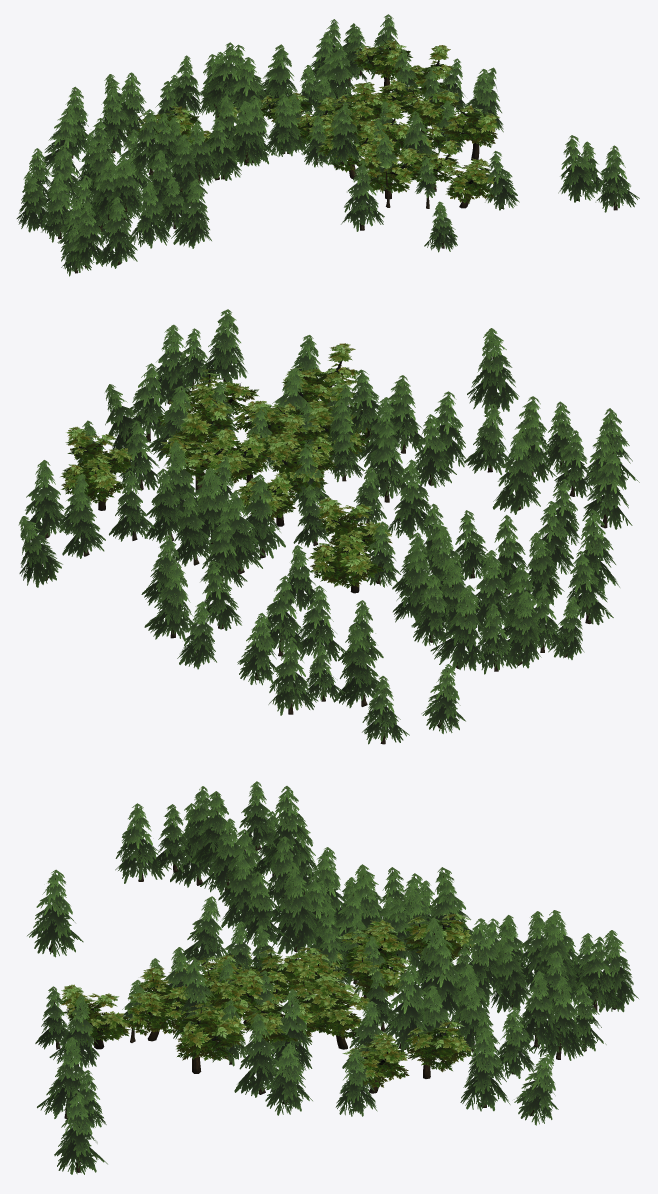
Rendered from Trees_06.fbx.
3 renders of one model, top to bottom at view 1: azimuth 30°, elevation 25°; view 2: azimuth 150°, elevation 25°; view 3: azimuth 270°, elevation 25°, orthographic. The views are drawn at different scales.
Visible parts, largest first — view 1: Trees_015; view 2: Trees_015; view 3: Trees_015.
Part boxes in pixels (x1,y1,x2,y2): Trees_015: [16, 14, 639, 276]; Trees_015: [18, 309, 639, 744]; Trees_015: [27, 781, 638, 1174].
Size of the model in its own units: 9516 by 3439 by 8698.
